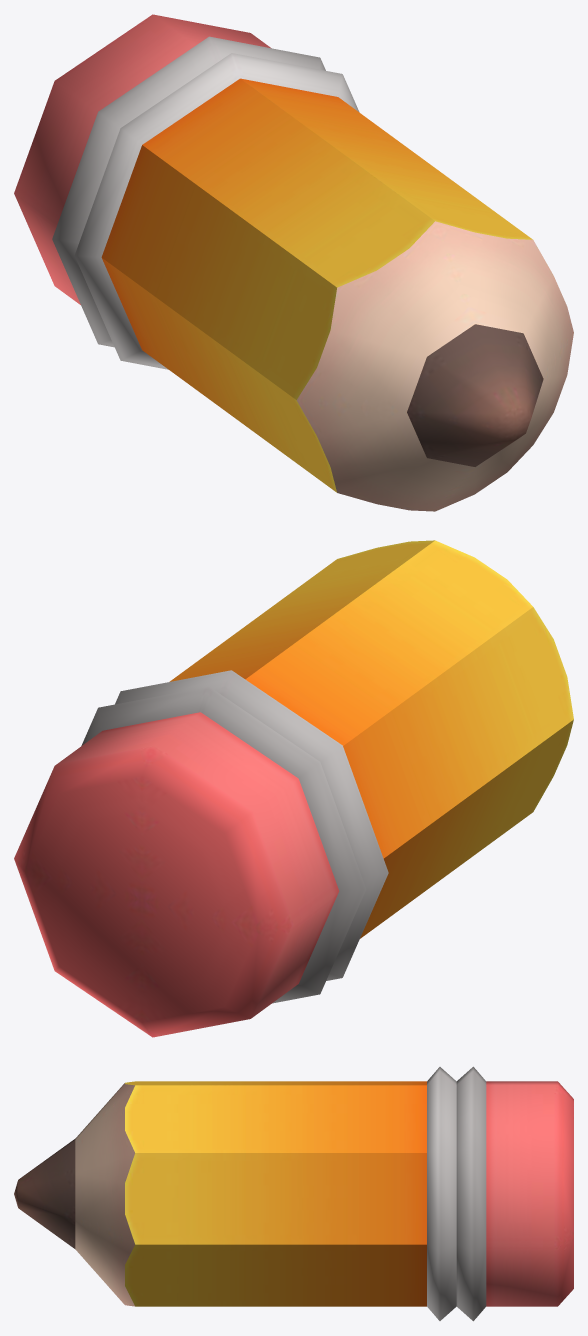
File: Wall_1.fbx
The picture shows the model from 3 angles, top to bottom: view 1: azimuth 30°, elevation 25°; view 2: azimuth 150°, elevation 25°; view 3: azimuth 270°, elevation 25°; orthographic projection. The views are drawn at different scales.
Parts seen in each view (by area): view 1: Wall_1; view 2: Wall_1; view 3: Wall_1.
Boxes of the visible parts, x1,y1,x2,y2 form: Wall_1: (14, 14, 573, 511); Wall_1: (14, 540, 573, 1037); Wall_1: (14, 1066, 573, 1321).
Size of the model in its own units: 0.1022 by 0.1022 by 0.2109.
